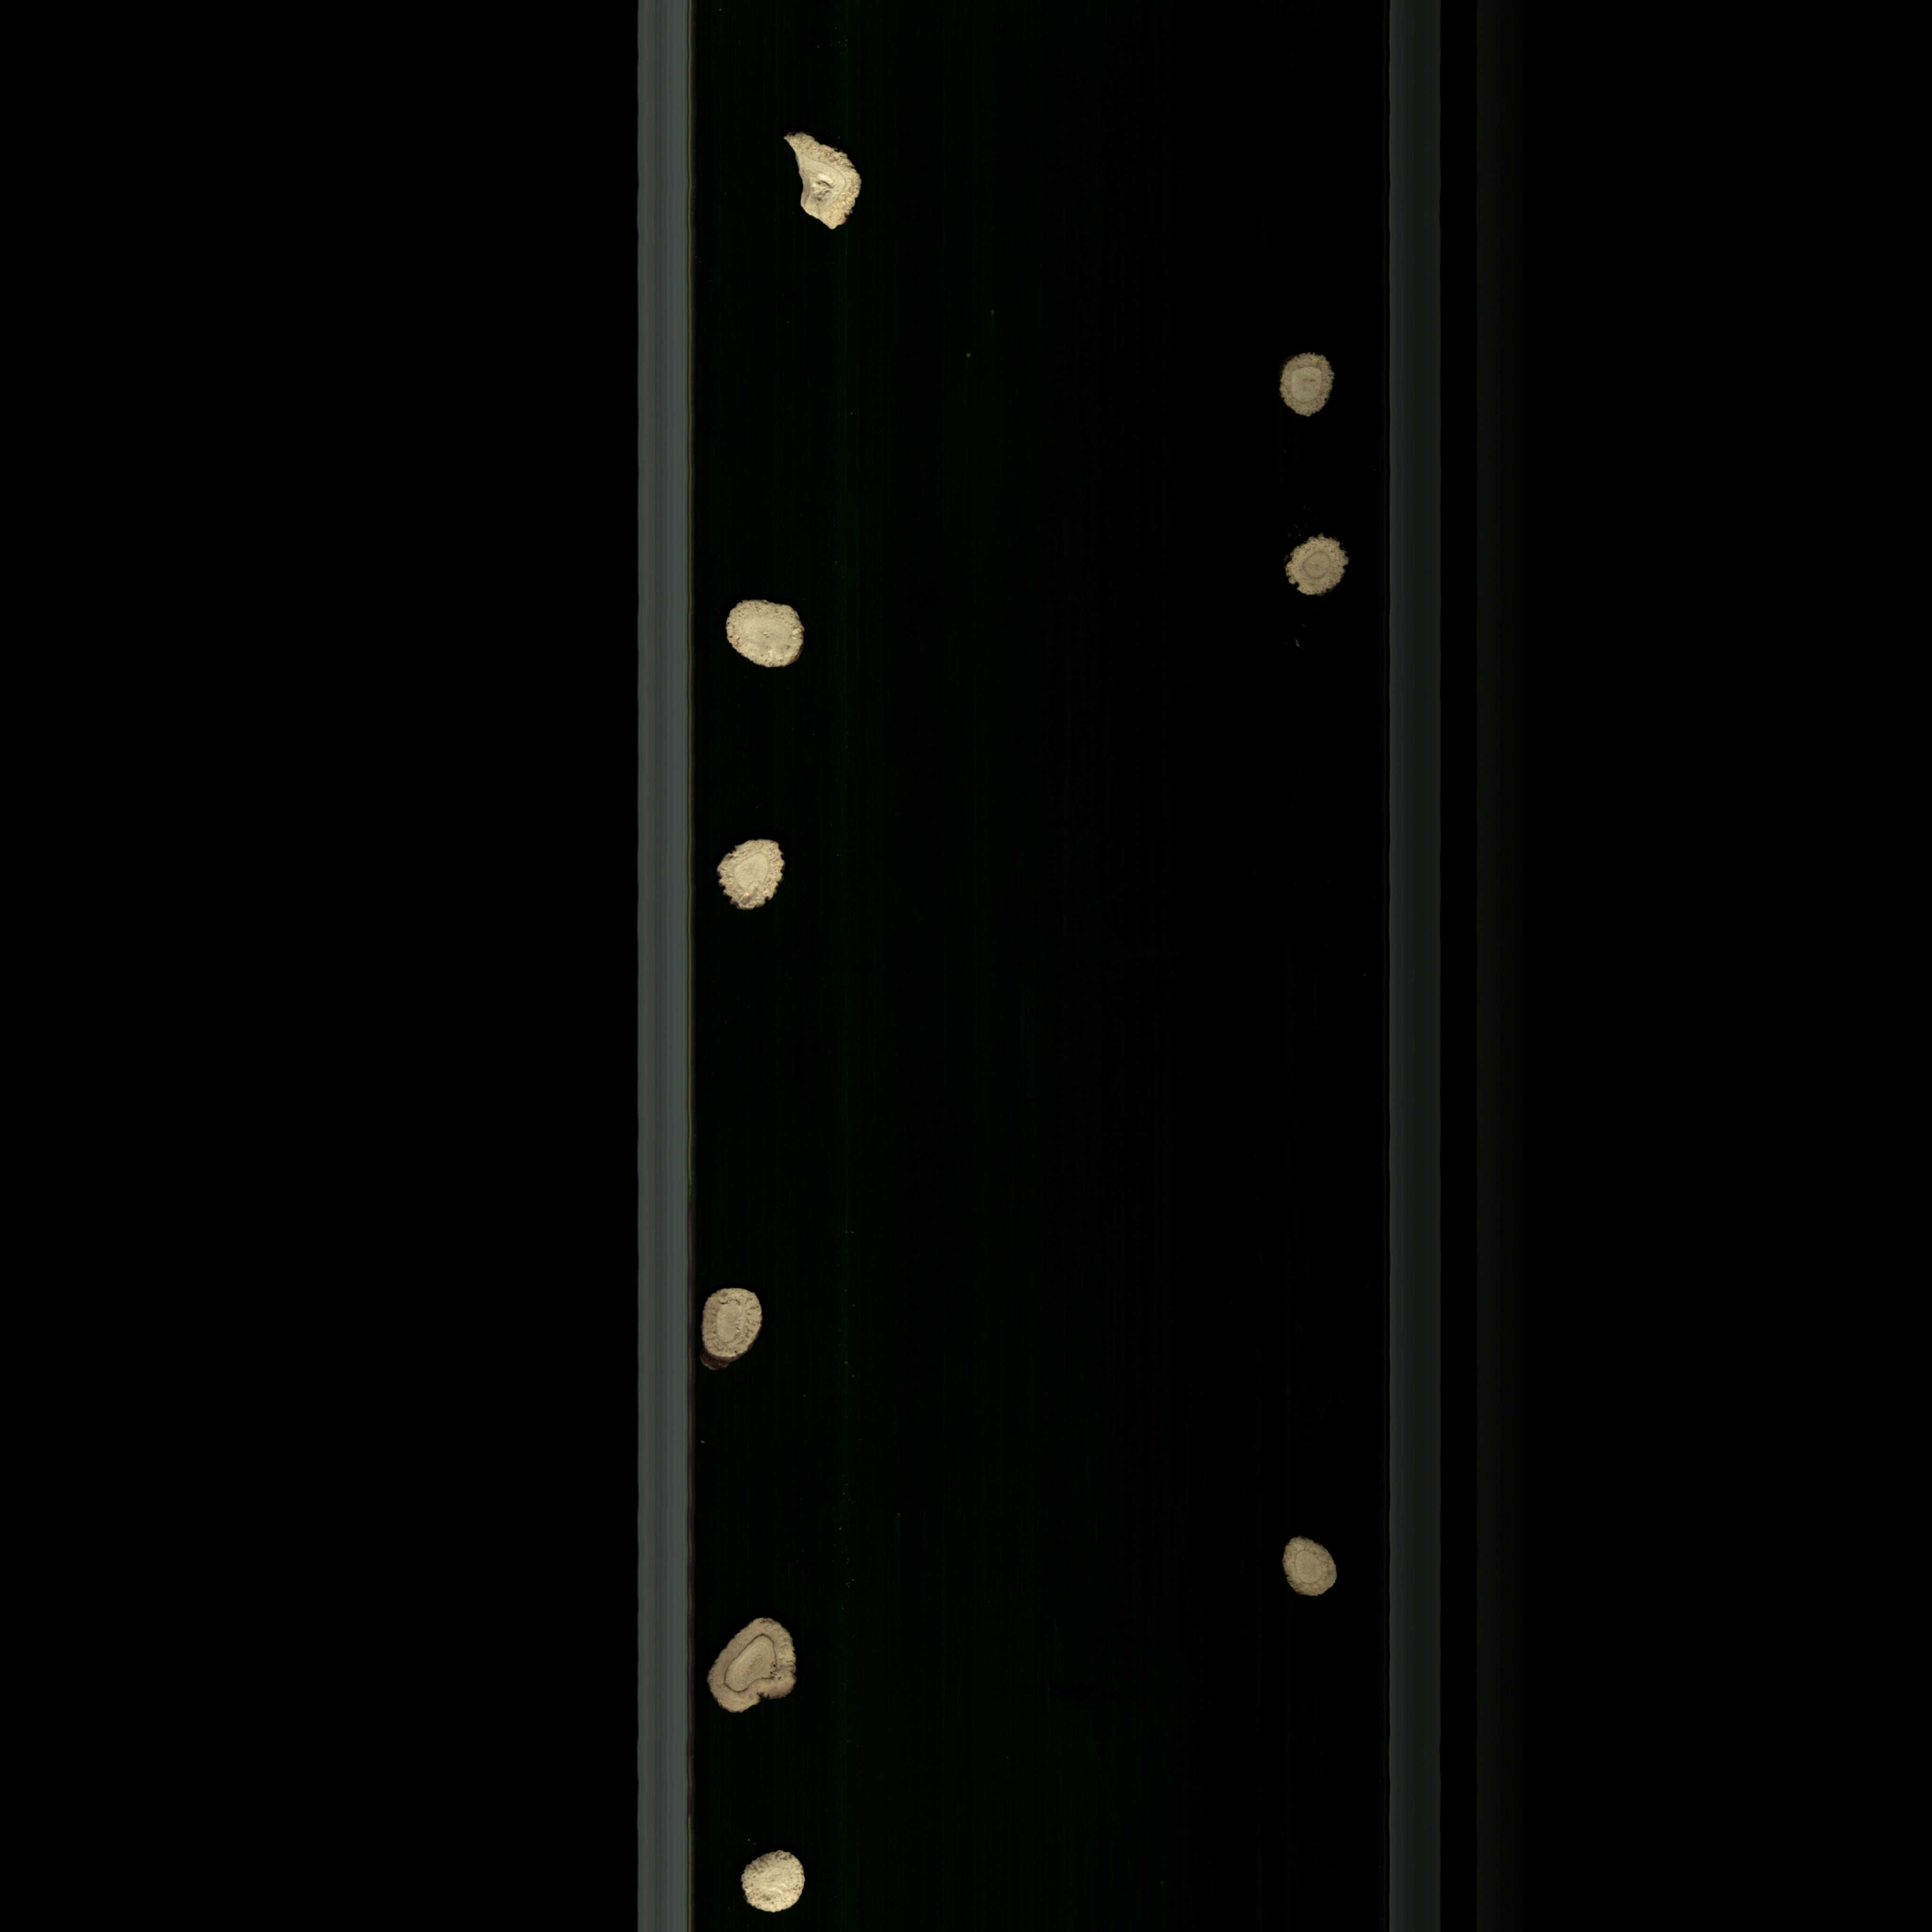debris: (777, 117, 869, 241)
distortion: (711, 835, 791, 920)
moldy: (699, 1606, 809, 1721), (1270, 345, 1338, 435), (1281, 527, 1357, 602)
